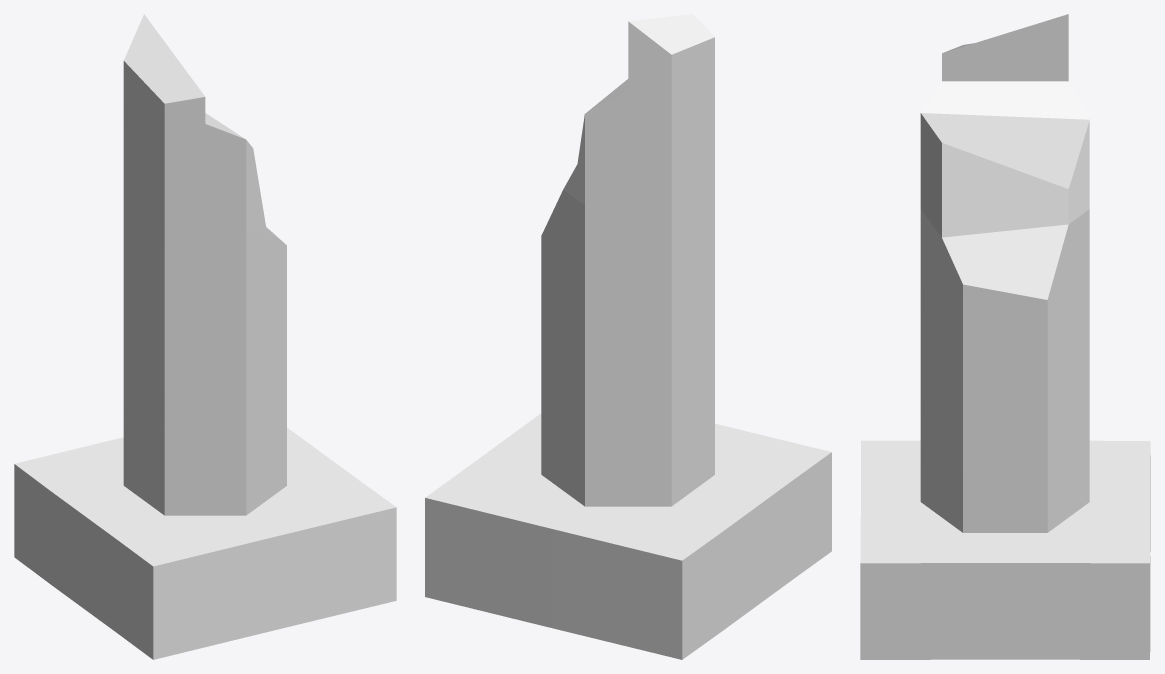
Rendered from ruins.column.broken.glb.
3 views of the same model, side by side, from view 1: azimuth 30°, elevation 25°; view 2: azimuth 150°, elevation 25°; view 3: azimuth 270°, elevation 25° (orthographic). The views are drawn at different scales.
Visible parts, largest first — view 1: column.broken; view 2: column.broken; view 3: column.broken.
Part boxes in pixels (x1,y1,x2,y2): column.broken: [14, 14, 396, 659]; column.broken: [425, 14, 831, 659]; column.broken: [860, 14, 1150, 659].
Size of the model in its own units: 0.8003 by 1.73 by 0.799.
1 material, 1 textured.
